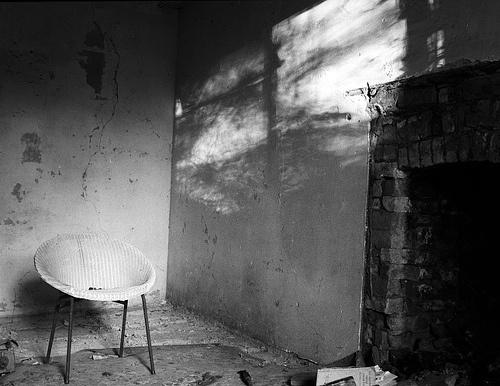chair: (33, 233, 160, 385)
